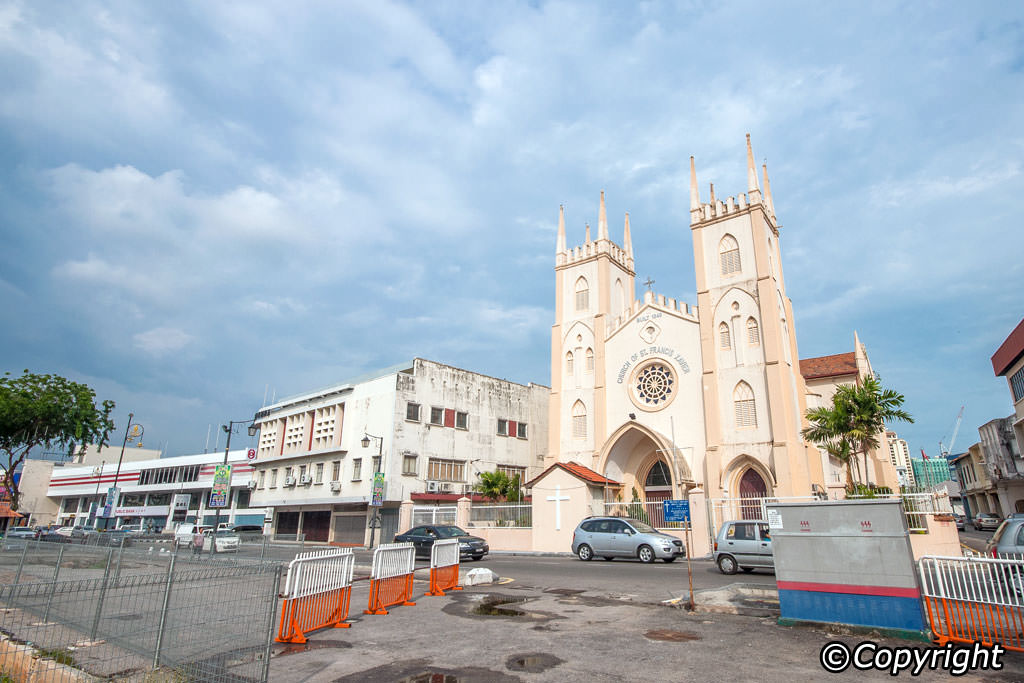Church: (526, 135, 800, 561)
